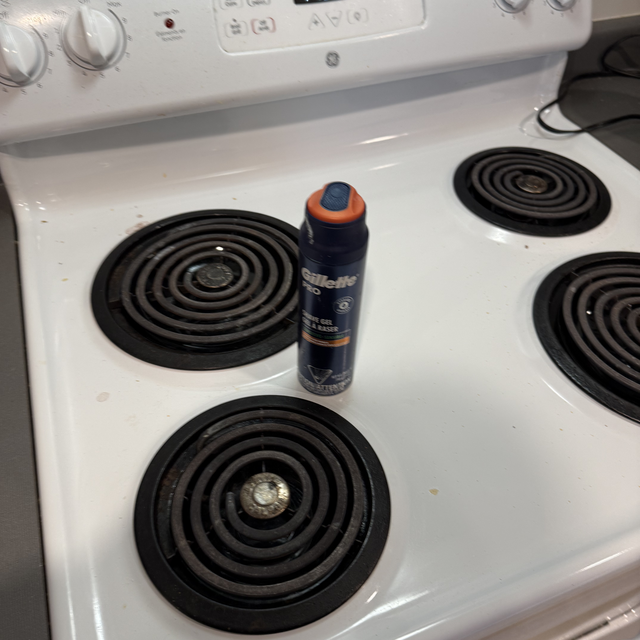Aerosol: (291, 184, 372, 400)
Stove: (0, 0, 640, 640)
